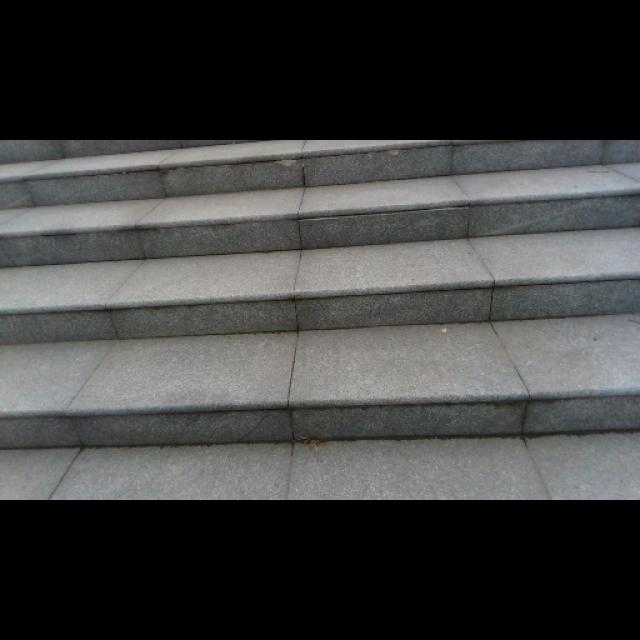Stairs: (0, 140, 639, 460)
